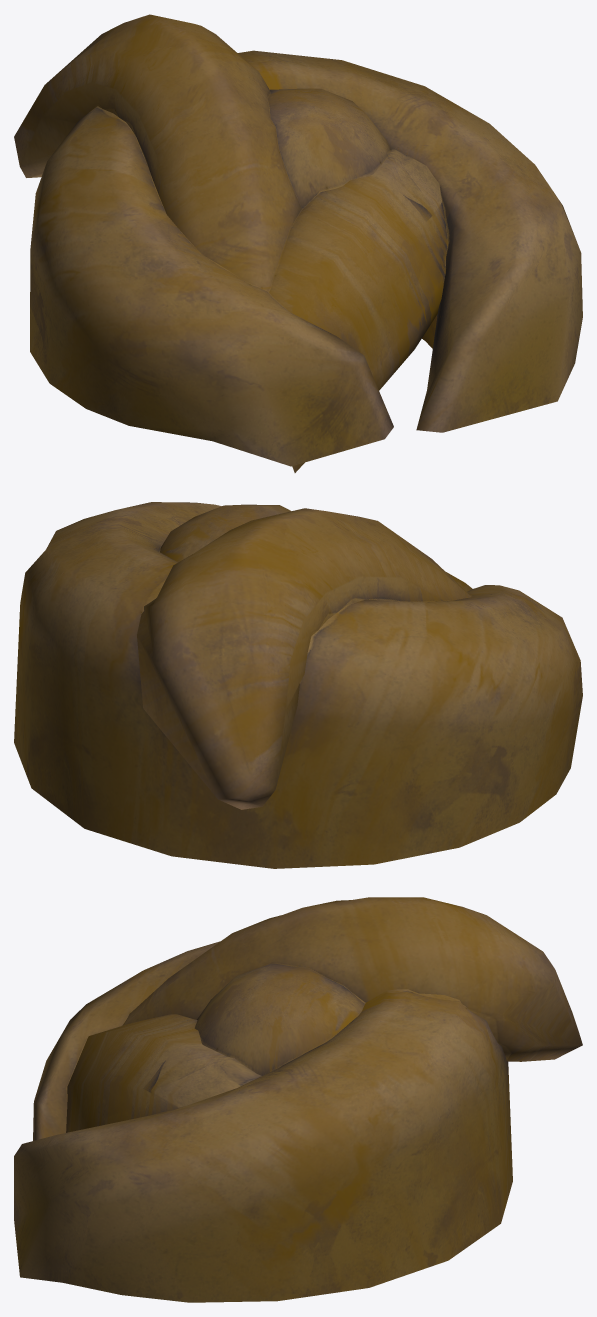
File: shit_e.inspect.gltf
3 renders of one model, top to bottom at view 1: azimuth 30°, elevation 25°; view 2: azimuth 150°, elevation 25°; view 3: azimuth 270°, elevation 25°, orthographic. The views are drawn at different scales.
Visible parts, largest first — view 1: Object_2; view 2: Object_2; view 3: Object_2.
Part boxes in pixels (bbox=[...]): Object_2: bbox=[14, 14, 582, 472]; Object_2: bbox=[14, 502, 582, 868]; Object_2: bbox=[14, 897, 582, 1302].
Size of the model in its own units: 2.32 by 1.45 by 2.44.
1 material, 1 textured.
